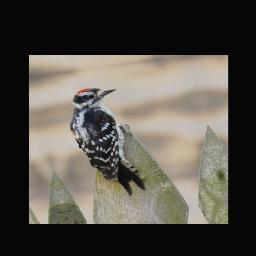Woodpecker: (58, 84, 147, 202)
